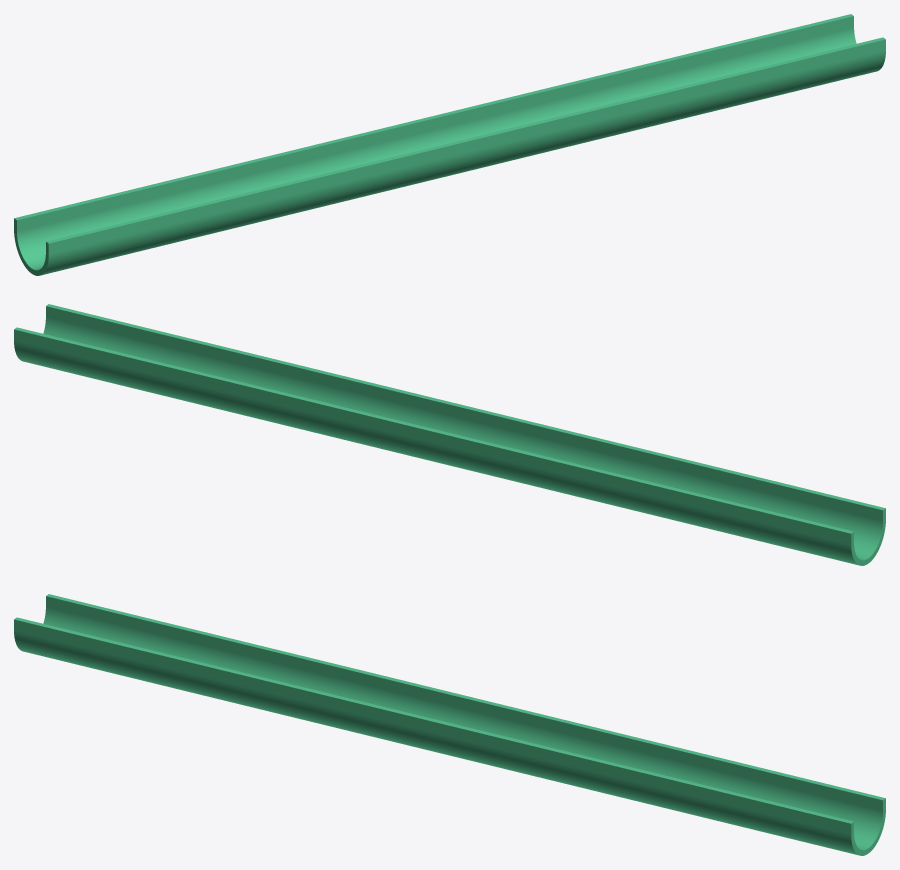
File: gm_pipe_01.dae
3 renders of one model, top to bottom at view 1: azimuth 30°, elevation 25°; view 2: azimuth 150°, elevation 25°; view 3: azimuth 330°, elevation 25°, orthographic.
Visible parts, largest first — view 1: Colmesh-1; view 2: Colmesh-1; view 3: Colmesh-1.
Part boxes in pixels (box(x1,y1,x2,y2)): Colmesh-1: box(14, 14, 885, 275); Colmesh-1: box(14, 304, 885, 565); Colmesh-1: box(14, 594, 885, 855).
Size of the model in its own units: 400 by 28.8 by 19.4.
